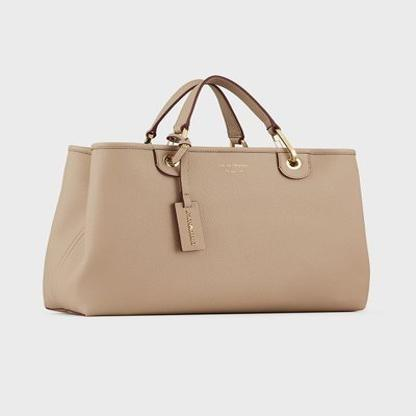not trash: (42, 72, 370, 314)
